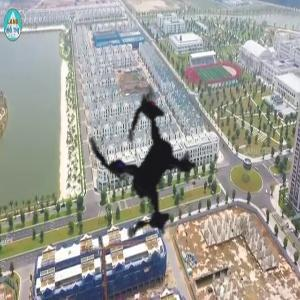drone: (20, 37, 283, 300)
